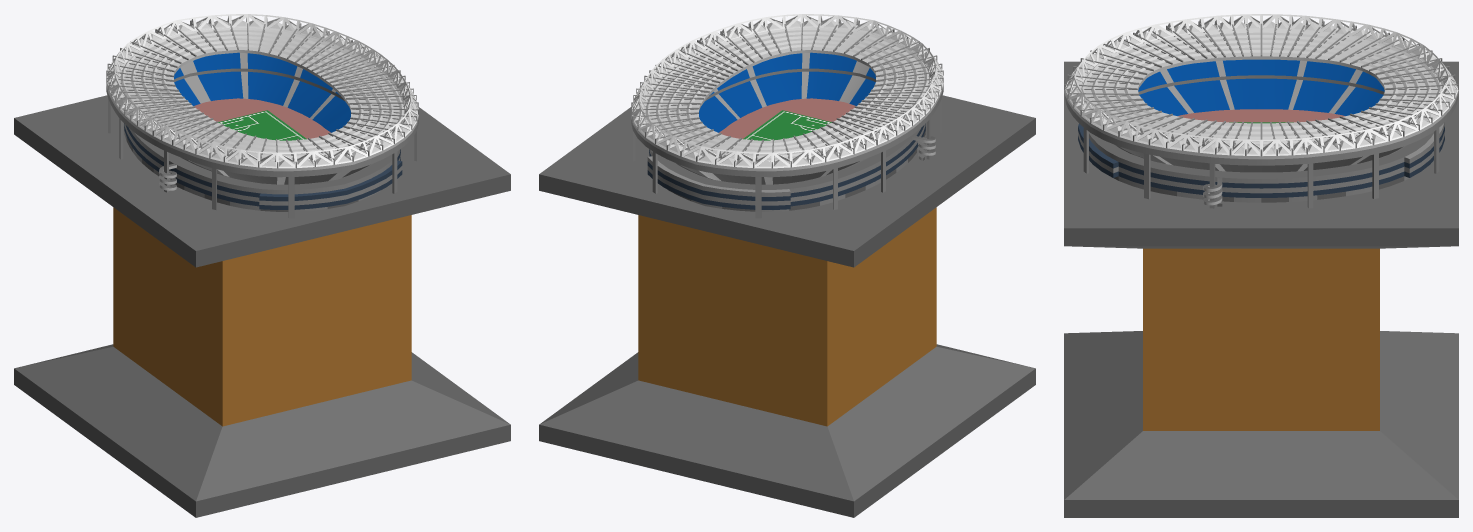
The model's file is FSt_Ita_004.FBX.
3 renders of one model, left to right at view 1: azimuth 30°, elevation 25°; view 2: azimuth 150°, elevation 25°; view 3: azimuth 270°, elevation 25°, orthographic. The views are drawn at different scales.
Parts seen in each view (by area): view 1: FSt_Ita_004; view 2: FSt_Ita_004; view 3: FSt_Ita_004.
Part boxes in pixels (bbox=[...]): FSt_Ita_004: bbox=[14, 14, 510, 517]; FSt_Ita_004: bbox=[539, 14, 1035, 517]; FSt_Ita_004: bbox=[1064, 14, 1458, 517].
Size of the model in its own units: 1000 by 1000 by 1000.
